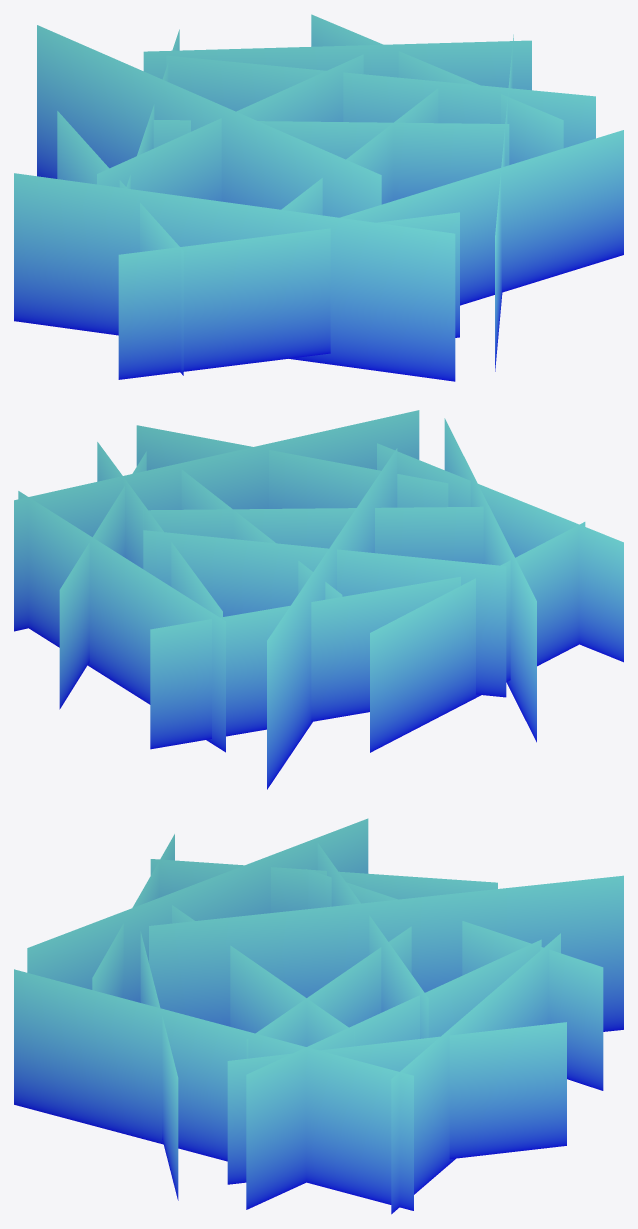
Rendered from SM_Env_Grass_Med_Clump_03.FBX.
3 views of the same model, one above another, from view 1: azimuth 30°, elevation 25°; view 2: azimuth 150°, elevation 25°; view 3: azimuth 270°, elevation 25° (orthographic). The views are drawn at different scales.
Parts seen in each view (by area): view 1: SM_Env_Grass_Med_Clump_03; view 2: SM_Env_Grass_Med_Clump_03; view 3: SM_Env_Grass_Med_Clump_03.
Boxes of the visible parts, x1,y1,x2,y2 form: SM_Env_Grass_Med_Clump_03: [14, 14, 623, 381]; SM_Env_Grass_Med_Clump_03: [14, 410, 623, 789]; SM_Env_Grass_Med_Clump_03: [14, 818, 623, 1214].
Bounding box in the file's own units: 172 × 173 × 51.02.
